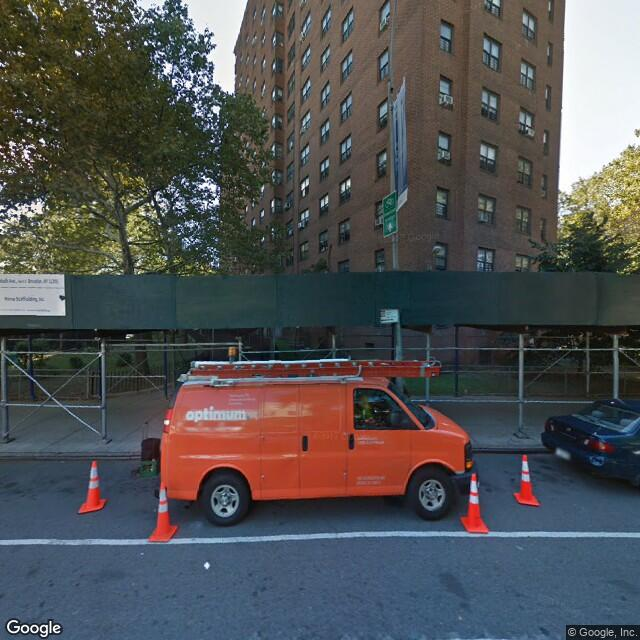litter: (202, 553, 216, 573)
